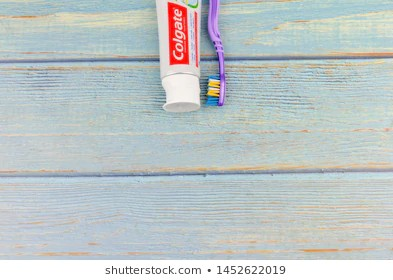colgate-total-150gm: (159, 1, 204, 113)
toothbrush: (202, 1, 230, 108)
